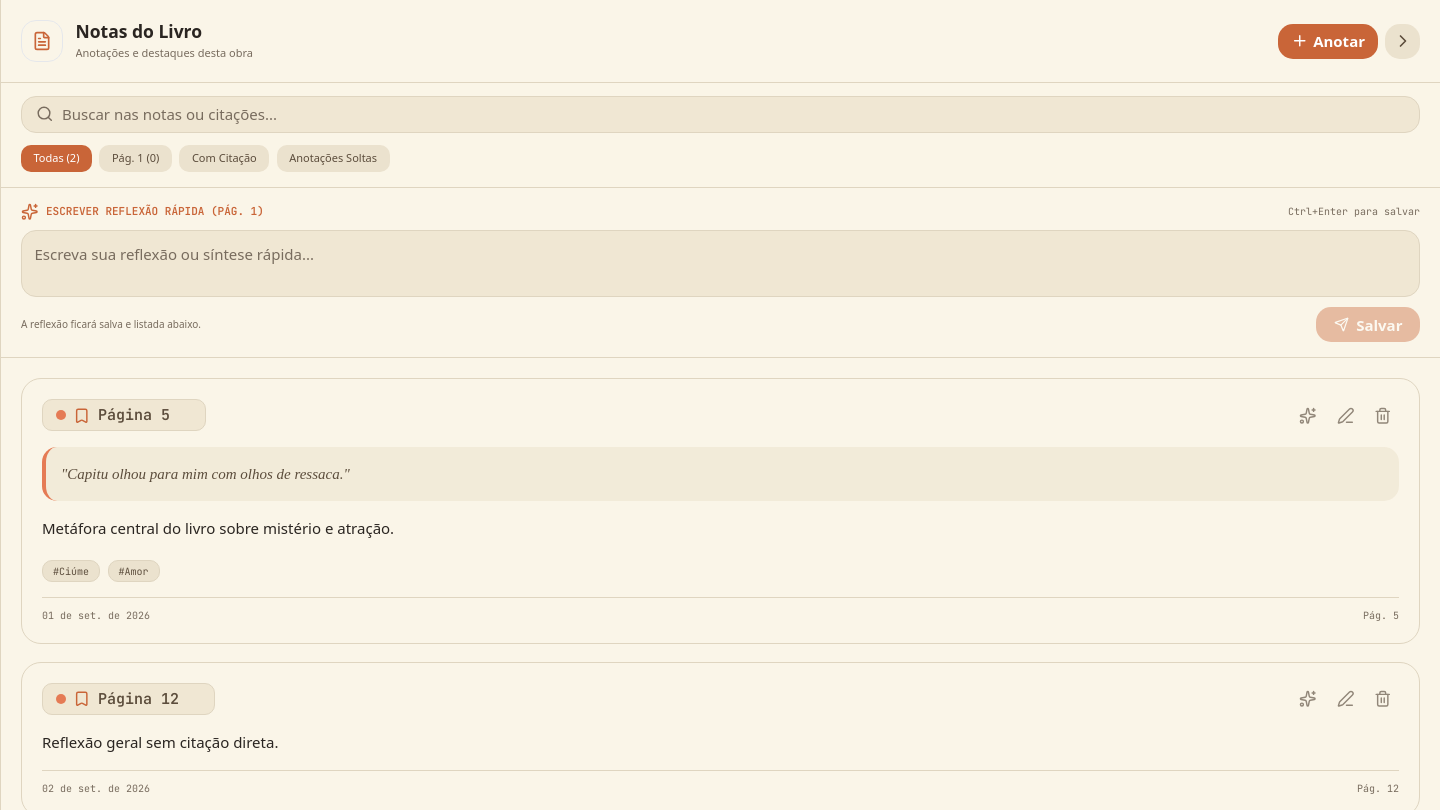
ReaderBookNotesPanel Component › filtra por categoria ao clicar nos chips (Com Citação vs Anotações Soltas)
Step 1. Click the button "Com Citação" → {"x": 224, "y": 158}, box [179,145,269,172]
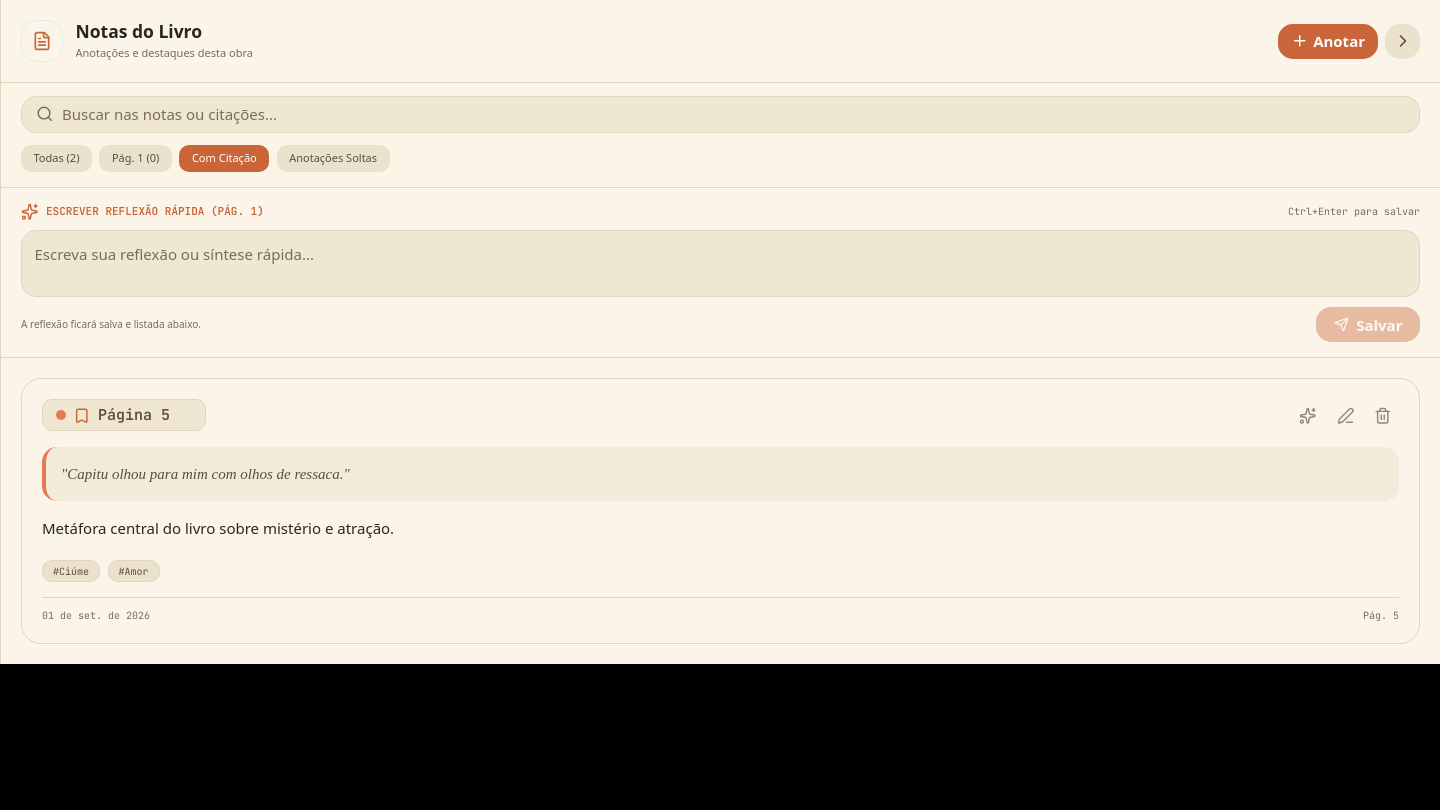
expect the text "Capitu olhou para mim" is shown: met, box [61,466,350,482]
expect the text "Reflexão geral sem citação direta." is gone: met
Step 2. Click the button "Anotações Soltas" → {"x": 333, "y": 158}, box [277,145,390,172]
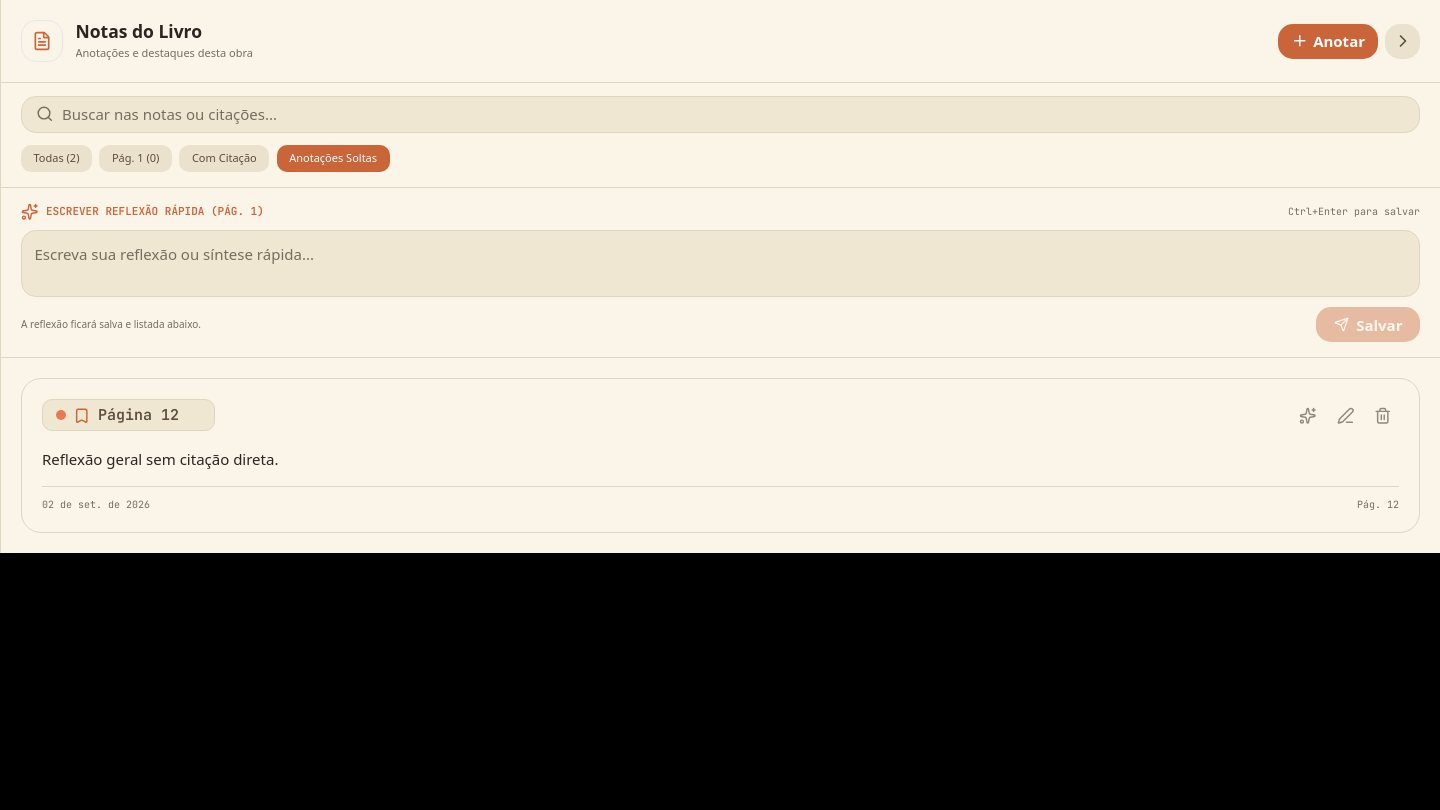
expect the text "Capitu olhou para mim" is gone: met
expect the text "Reflexão geral sem citação direta." is shown: met, box [42,448,278,468]
